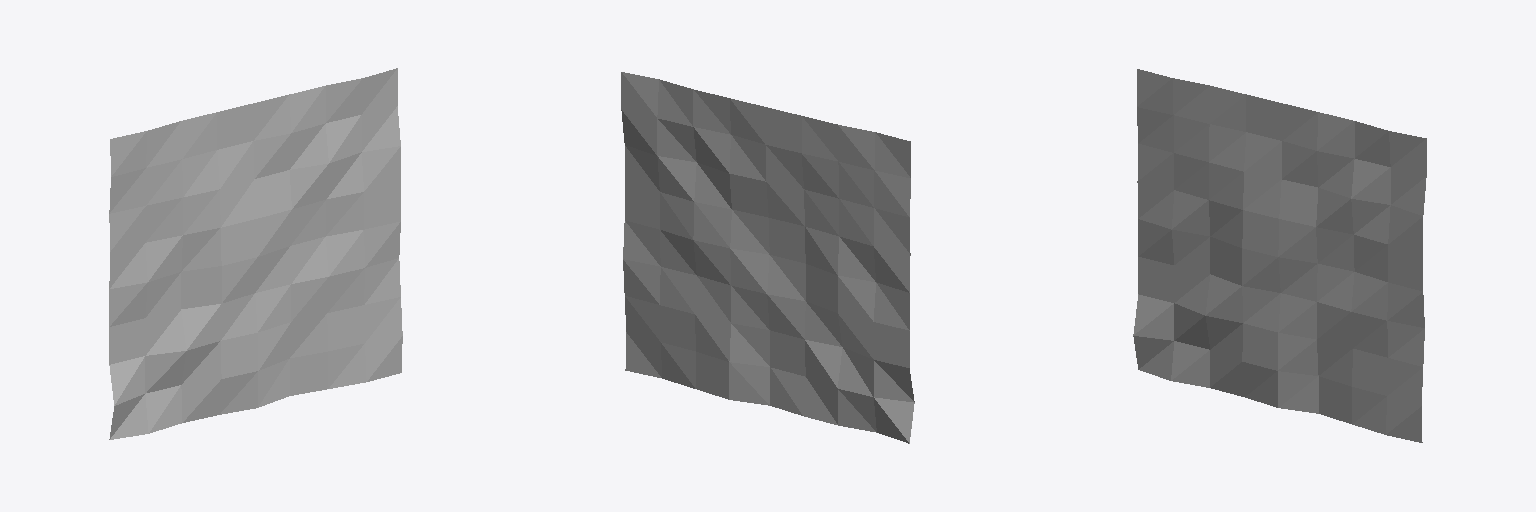
The model's file is gridTest.obj.
The picture shows the model from 3 angles: view 1: azimuth 30°, elevation 25°; view 2: azimuth 150°, elevation 25°; view 3: azimuth 330°, elevation 25°; orthographic projection.
Size of the model in its own units: 200 by 200 by 6.